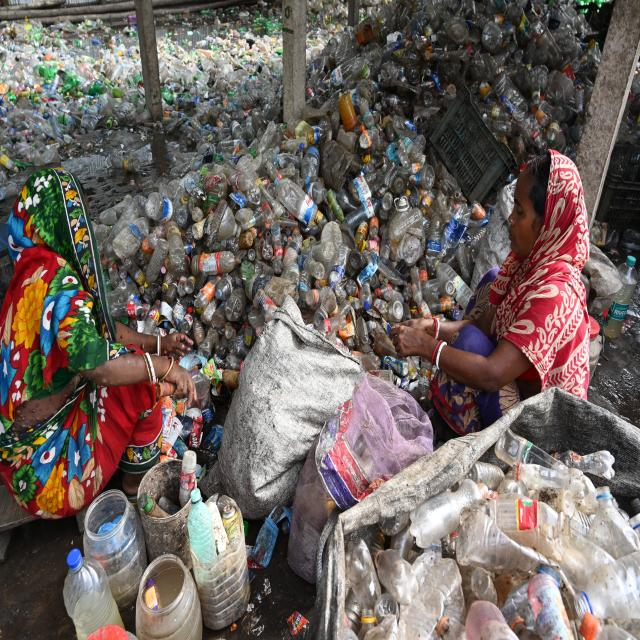plastic: (275, 135, 408, 292), (452, 486, 600, 625), (156, 220, 246, 334)
trash: (242, 357, 304, 480)
